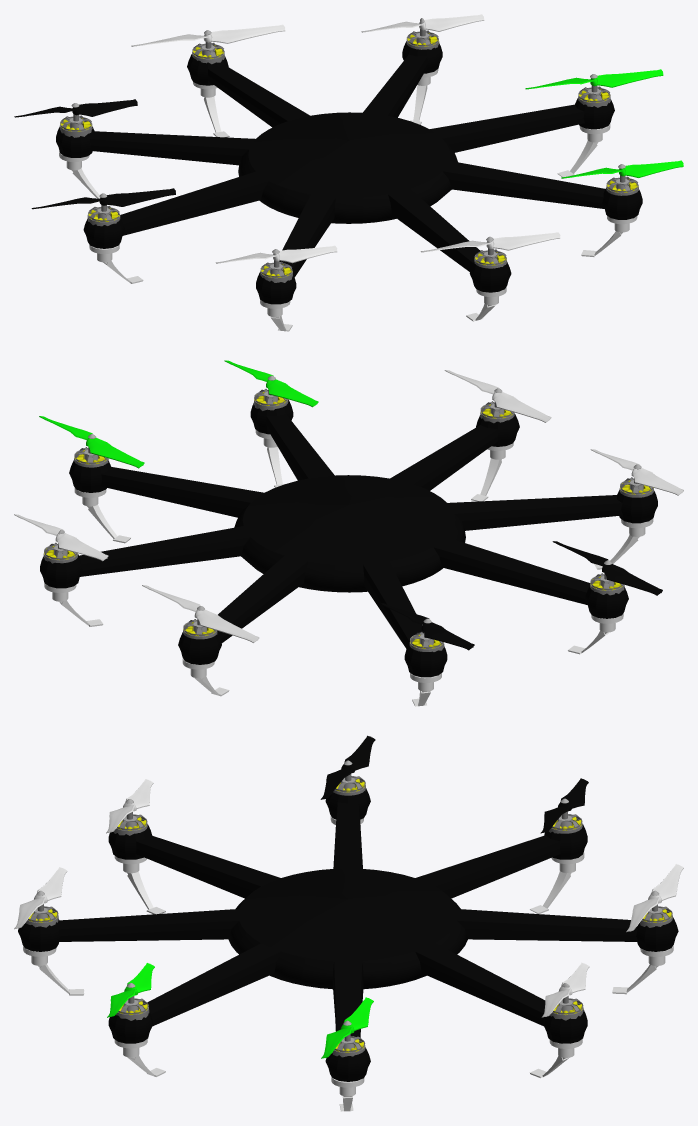
File: uav_8_2.fbx
The picture shows the model from 3 angles, top to bottom: view 1: azimuth 30°, elevation 25°; view 2: azimuth 150°, elevation 25°; view 3: azimuth 270°, elevation 25°; orthographic projection. The views are drawn at different scales.
Parts seen in each view (by area): view 1: coil_7_4408; view 2: coil_7_4408; view 3: coil_7_4408.
Part boxes in pixels (<box>): coil_7_4408: <box>14,14,683,331</box>; coil_7_4408: <box>14,360,683,706</box>; coil_7_4408: <box>14,735,683,1111</box>.
Size of the model in its own units: 46.14 by 6.79 by 40.27.
